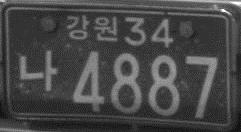3: (123, 15, 147, 46)
4: (71, 50, 104, 112), (150, 17, 173, 48)
7: (184, 55, 218, 119)
8: (110, 52, 143, 114), (148, 54, 180, 116)
강원_O: (65, 13, 118, 42)
나: (18, 51, 59, 91)
